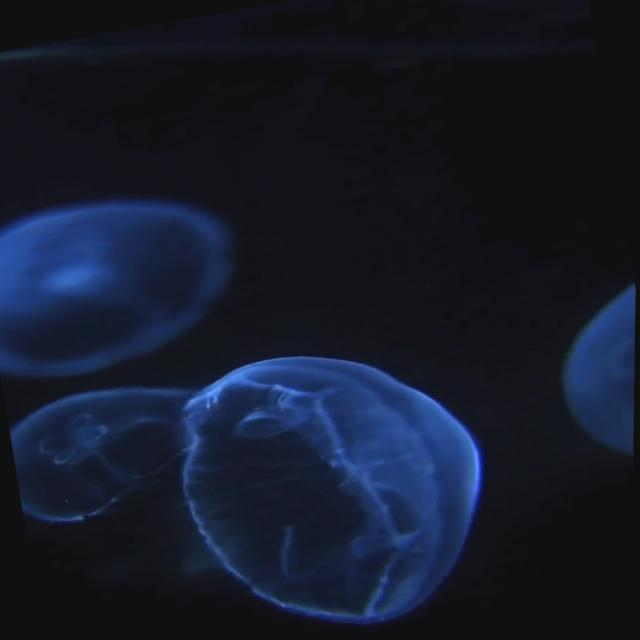Moon-jellyfish: (181, 354, 481, 626), (0, 193, 239, 380), (9, 383, 194, 524), (561, 279, 637, 457)
